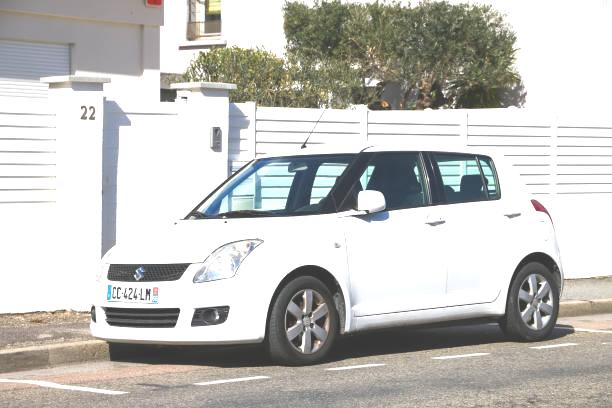suzuki: (129, 264, 150, 288)
